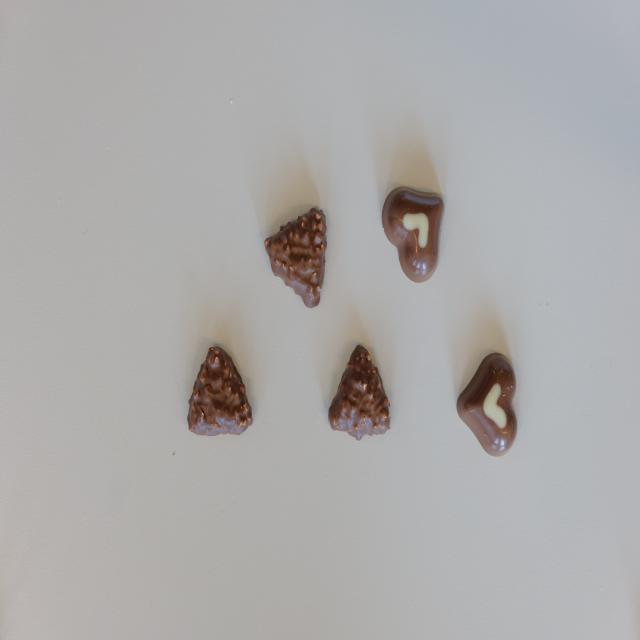Passion_au_lait: (456, 353, 519, 457), (382, 188, 446, 282)
Triangolo: (266, 207, 329, 307), (188, 349, 254, 438), (330, 346, 390, 442)
